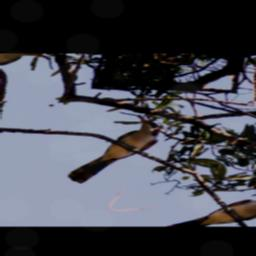Cuckoo: (34, 113, 185, 187)
